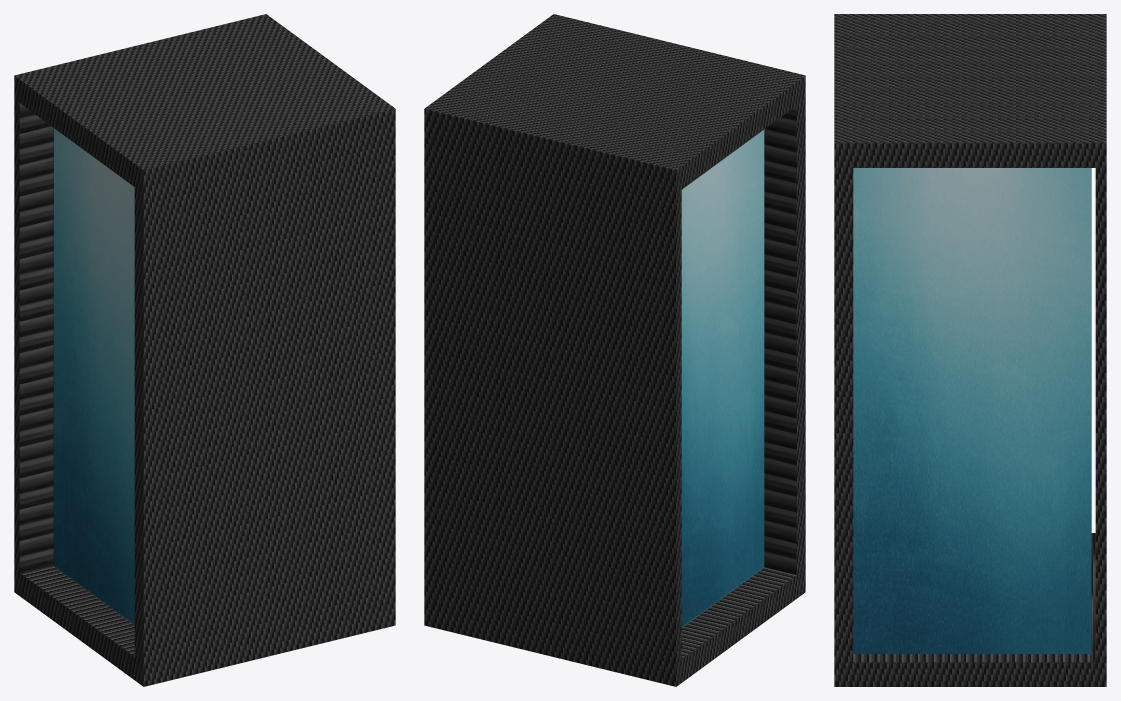
Rendered from cancel1pt2.fbx.
3 views of the same model, side by side, from view 1: azimuth 30°, elevation 25°; view 2: azimuth 150°, elevation 25°; view 3: azimuth 270°, elevation 25° (orthographic). The views are drawn at different scales.
Visible parts, largest first — view 1: Default; view 2: Default; view 3: Default.
Boxes of the visible parts, x1,y1,x2,y2 form: Default: [14, 14, 395, 686]; Default: [424, 14, 805, 686]; Default: [834, 14, 1106, 686].
Size of the model in its own units: 0.5 by 0.9791 by 0.4451.
Materials: 2 (2 with a texture image).
